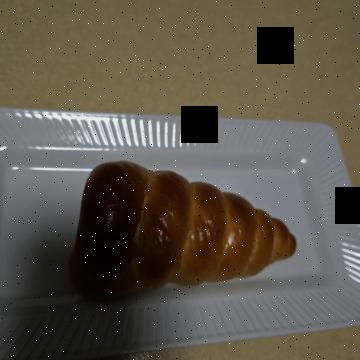cream horn: (147, 62, 316, 304)
